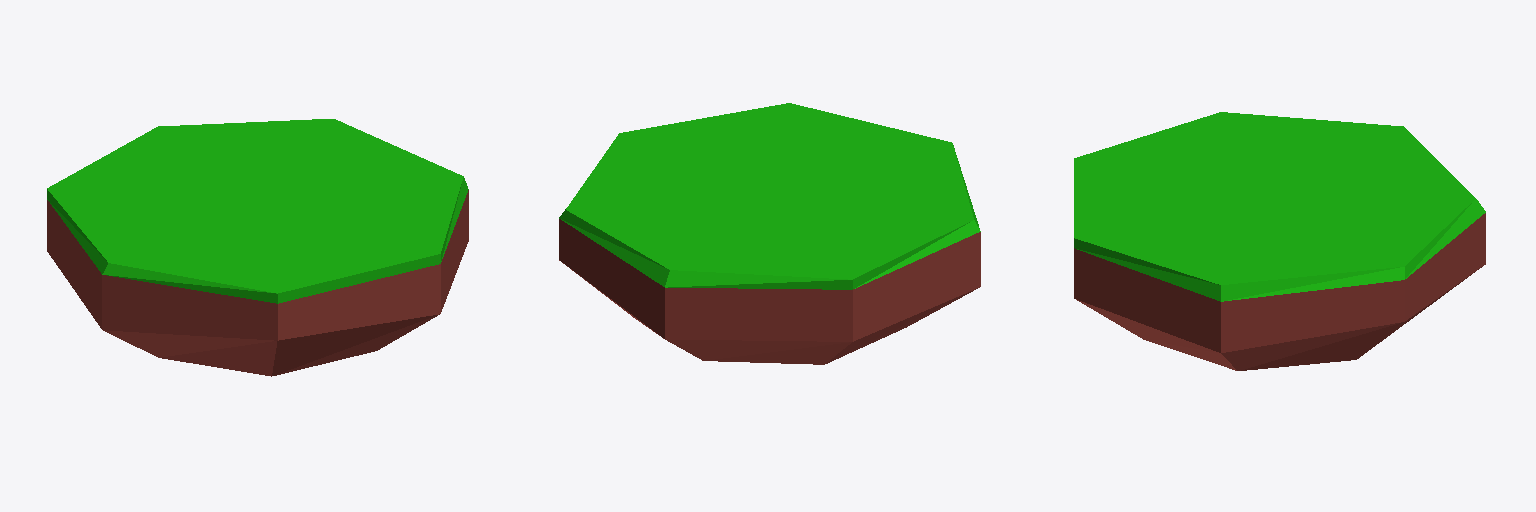
File: grass.obj
The picture shows the model from 3 angles: view 1: azimuth 30°, elevation 25°; view 2: azimuth 150°, elevation 25°; view 3: azimuth 270°, elevation 25°; orthographic projection.
Parts seen in each view (by area): view 1: GrassPlatform_Cylinder.001; view 2: GrassPlatform_Cylinder.001; view 3: GrassPlatform_Cylinder.001.
Boxes of the visible parts, <box> form: GrassPlatform_Cylinder.001: <box>47,119,468,376</box>; GrassPlatform_Cylinder.001: <box>559,103,980,364</box>; GrassPlatform_Cylinder.001: <box>1074,112,1485,370</box>.
Bounding box in the file's own units: 0.633 × 0.1905 × 0.6171.